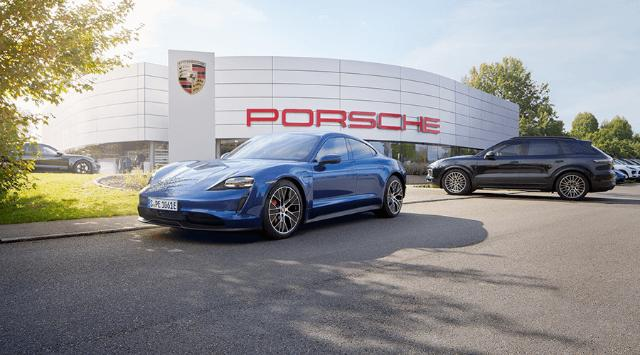porsche: (137, 129, 407, 239)
